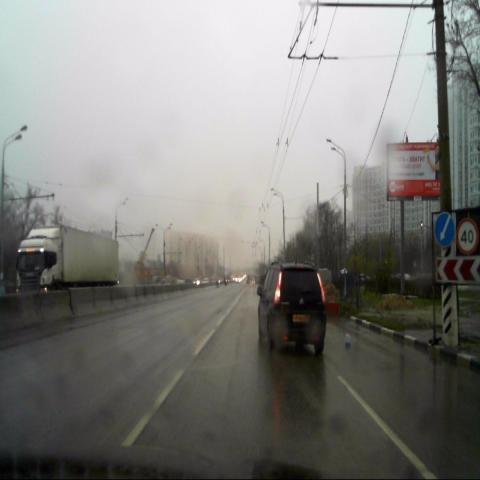4_2_2: (434, 212, 454, 247)
